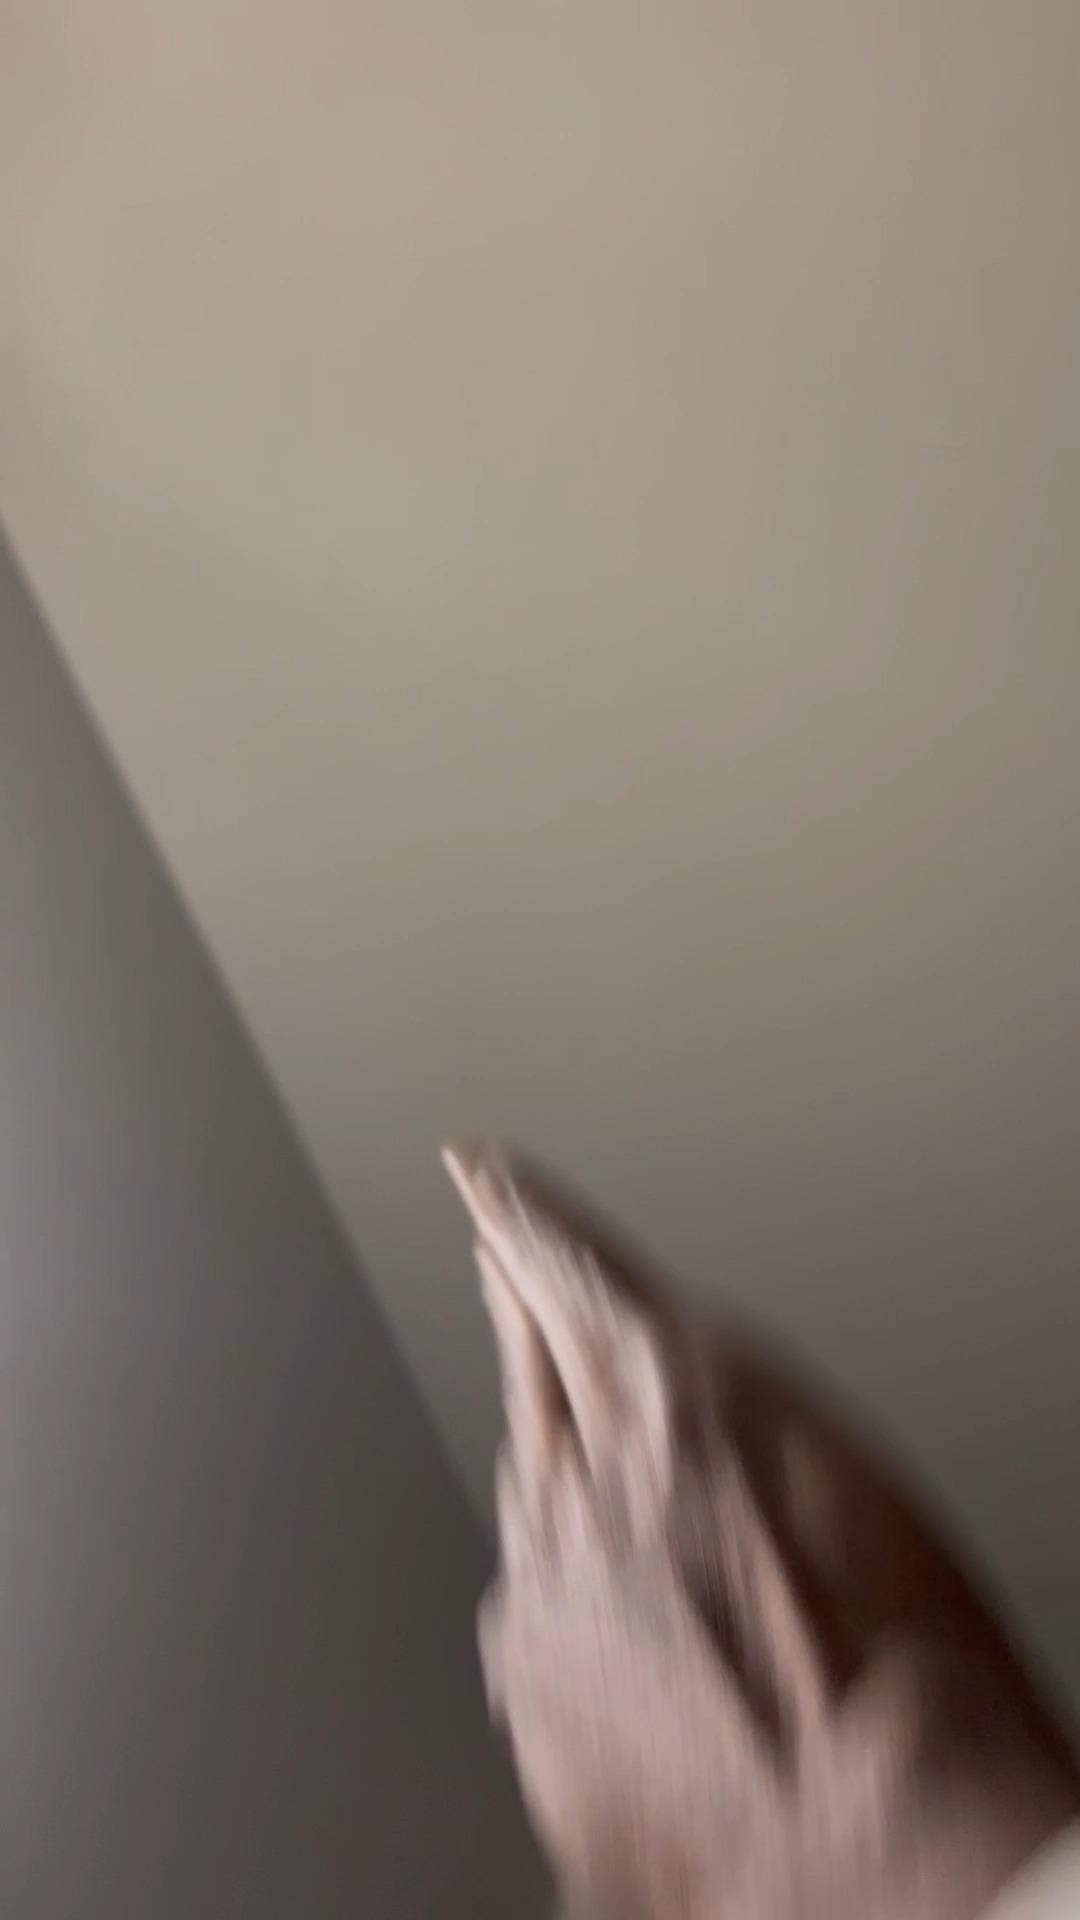Paper: (456, 1131, 1080, 1920)
